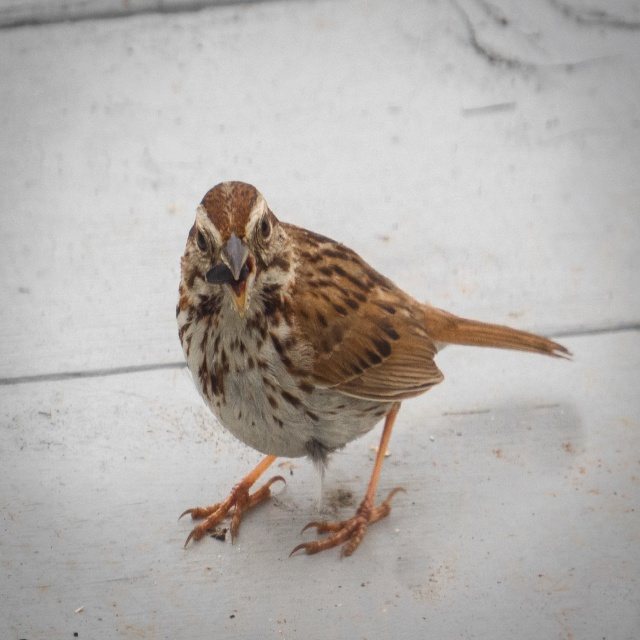Sparrow: (180, 177, 574, 558)
